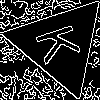K: (35, 19, 91, 65)
